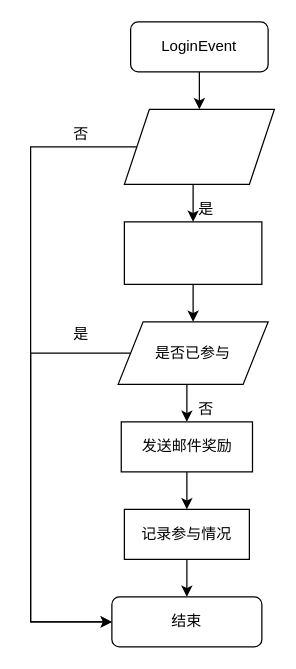
The diagram is 296 pixels wide and 669 high, and some of its shapes have lost their labels. Each missing label, with the centre of its shape:
"判断当前是否在 预约奖励配置" belongs at (198,146).
"获取玩家预约奖励" belongs at (192,252).
